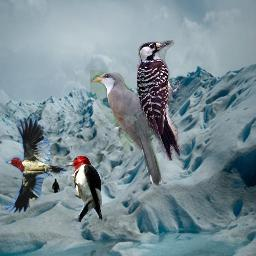Cuckoo: (90, 70, 164, 188)
Woodpecker: (5, 117, 67, 214), (137, 40, 180, 161), (63, 155, 103, 222)
